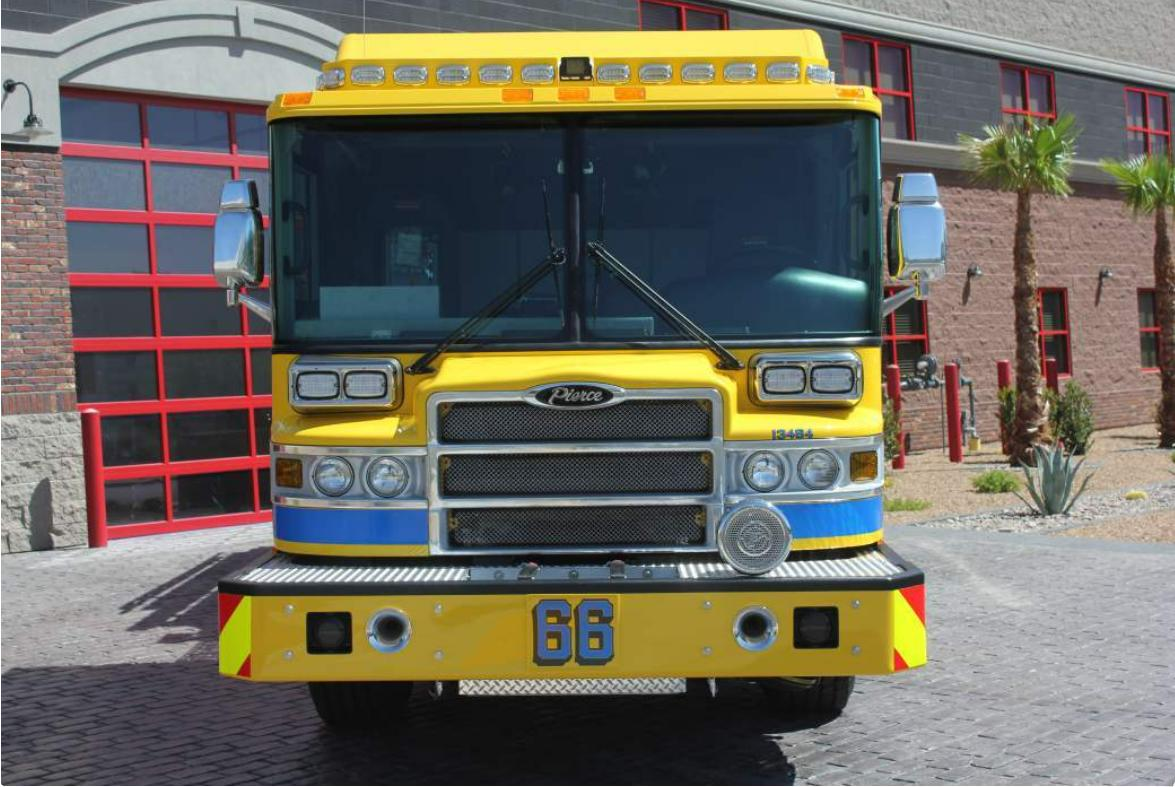firetruck_off: (210, 34, 938, 745)
